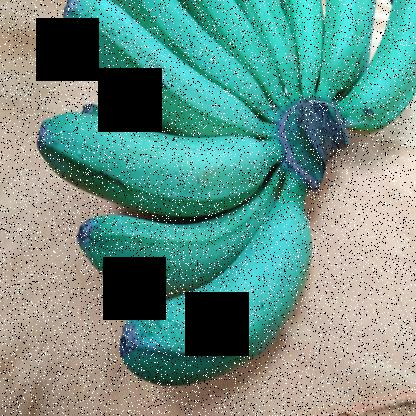freshunripe: (121, 198, 316, 394), (52, 0, 256, 137), (72, 173, 280, 305), (33, 105, 266, 207), (108, 0, 279, 122), (161, 0, 293, 105), (269, 0, 334, 105), (314, 0, 384, 90)
unripe: (342, 0, 415, 141)
